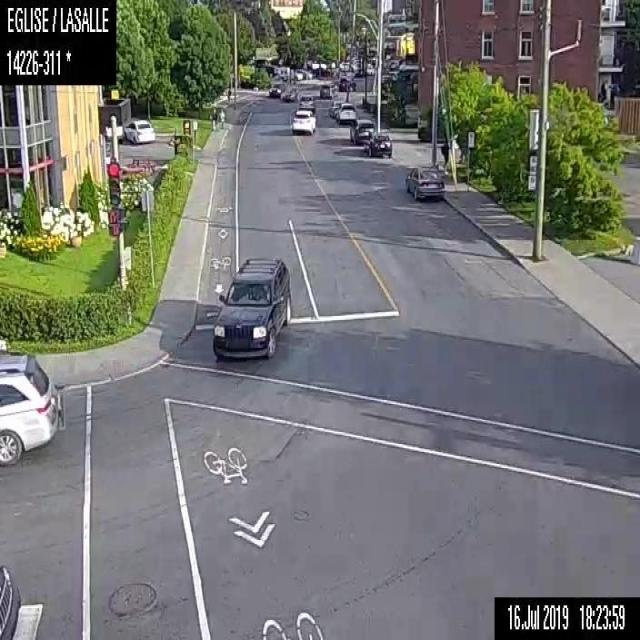pedestrian: (441, 139, 448, 169), (210, 106, 216, 130), (219, 107, 225, 129), (226, 83, 231, 101)
vehicle: (211, 254, 291, 362), (0, 348, 58, 467), (0, 562, 21, 638), (404, 164, 444, 201), (122, 117, 154, 142), (288, 107, 316, 135), (365, 132, 391, 158), (349, 116, 374, 143), (336, 103, 356, 123), (336, 74, 355, 91), (298, 94, 315, 112), (328, 99, 344, 118), (266, 80, 284, 96), (318, 81, 337, 96), (279, 85, 297, 100)
